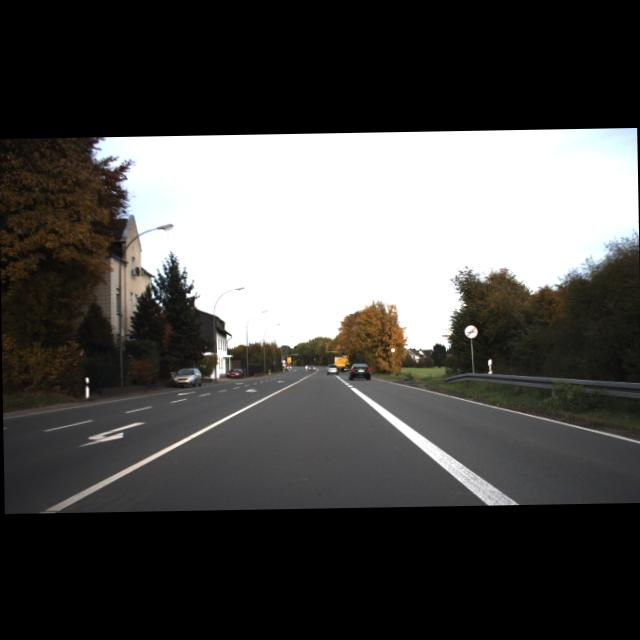other: (464, 324, 476, 337)
